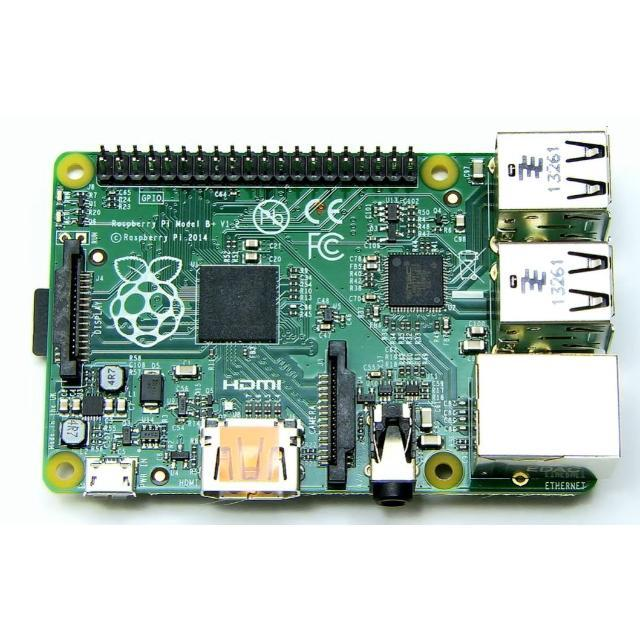Raspberry Pi 1 B-: (34, 131, 620, 505)
